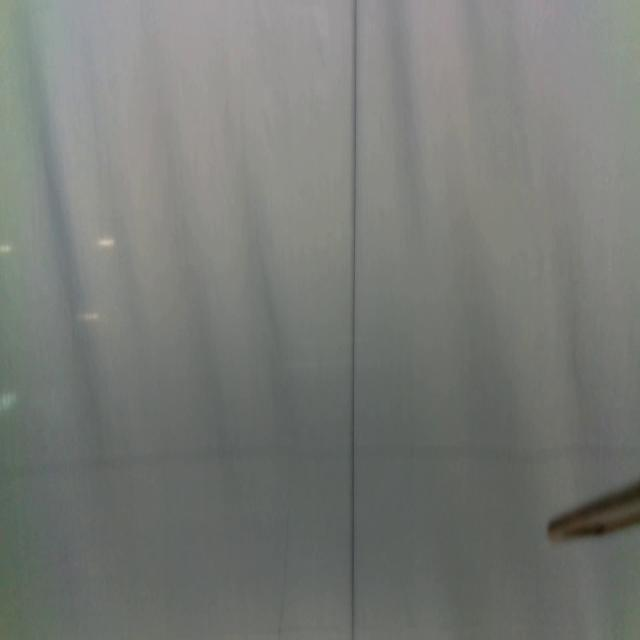color bleeding: (0, 438, 640, 484)
crease: (347, 0, 362, 639)
